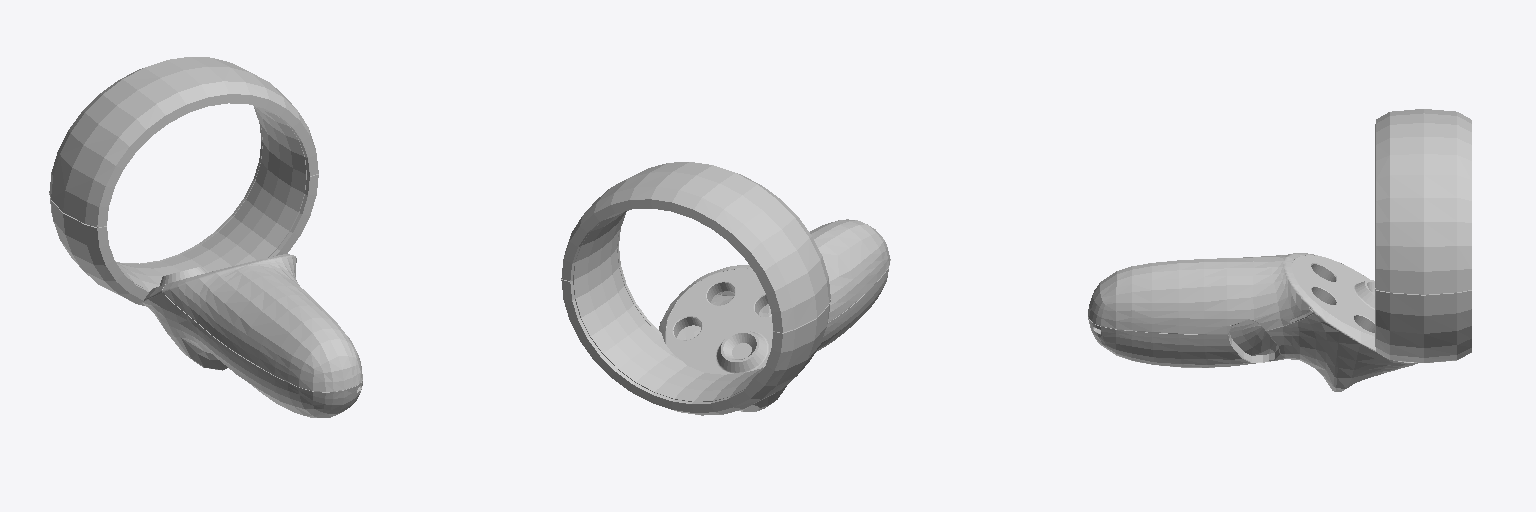
Rendered from body.obj.
3 renders of one model, left to right at view 1: azimuth 30°, elevation 25°; view 2: azimuth 150°, elevation 25°; view 3: azimuth 270°, elevation 25°, orthographic.
Parts seen in each view (by area): view 1: body; view 2: body; view 3: body.
Part boxes in pixels (x1,y1,x2,y2): body: (49,57,362,417); body: (561,162,890,415); body: (1088,109,1471,391).
Bounding box in the file's own units: 0.0962 × 0.1011 × 0.1323.